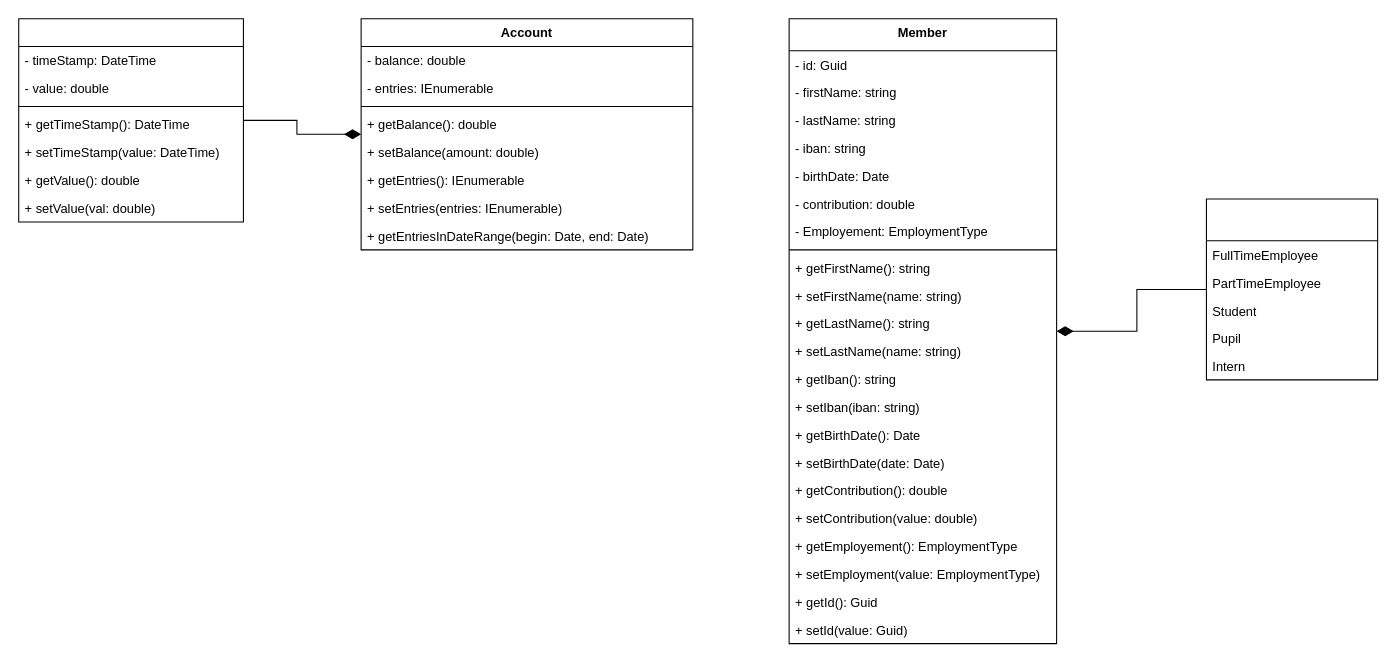
The diagram is 1396 pixels wide and 666 high, and some of its shapes have lost their labels. Here are the shapes that lost their labels. From the top down, the box of each, then its label:
(18, 18, 243, 222): AccountEntry
(1205, 198, 1378, 380): << enumeration >> EmploymentType
